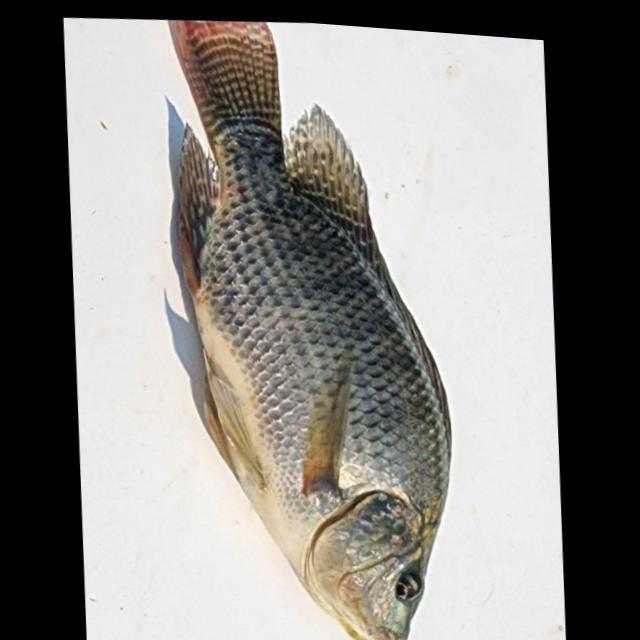Tilapia: (165, 13, 476, 640)
